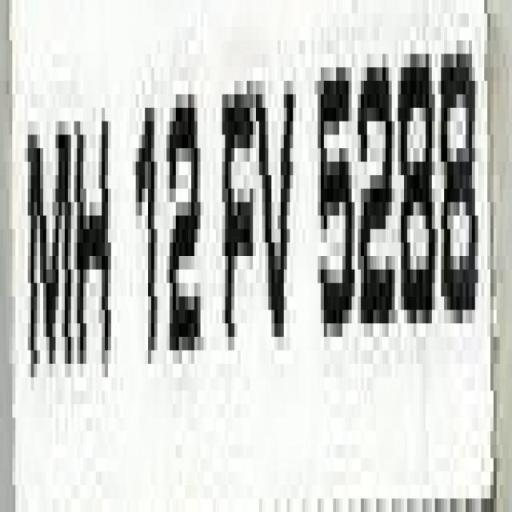number plate: (6, 0, 481, 512)
